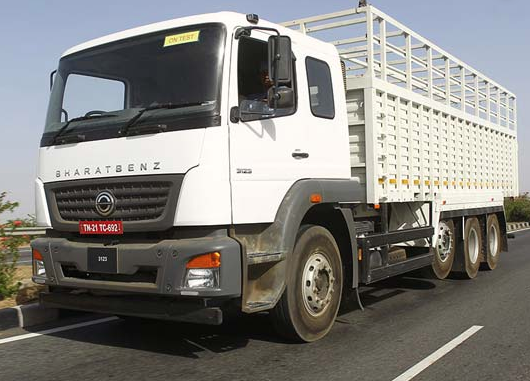truck: (26, 1, 524, 360)
